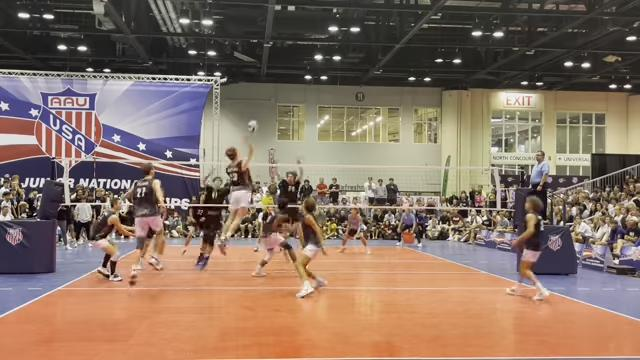attacco: (219, 138, 257, 255)
muro: (268, 151, 308, 230)
